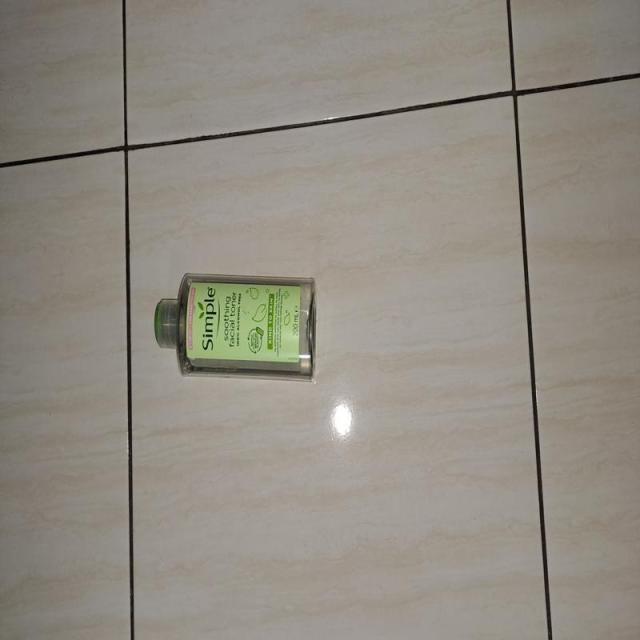Anorganik: (146, 270, 334, 386)
